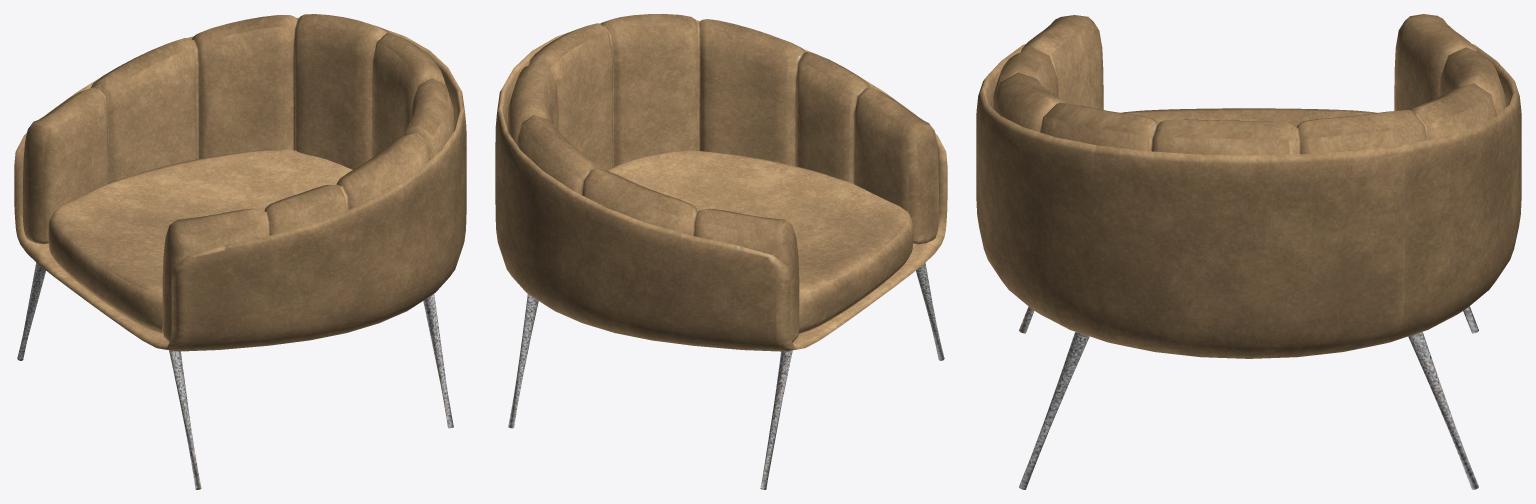
3 views of the same model, side by side, from view 1: azimuth 30°, elevation 25°; view 2: azimuth 150°, elevation 25°; view 3: azimuth 270°, elevation 25° (orthographic). The views are drawn at different scales.
Visible parts, largest first — view 1: Cube.001, Cube.003, Cube.002, Cylinder; view 2: Cube.001, Cube.003, Cube.002, Cylinder; view 3: Cube.003, Cube.001, Cylinder, Cube.002.
Boxes of the visible parts, box(x1,y1,x2,y2) form: Cube.001: box(22, 14, 454, 342); Cube.003: box(14, 17, 466, 351); Cube.002: box(48, 150, 352, 333); Cylinder: box(17, 262, 453, 489); Cube.001: box(507, 14, 938, 342); Cube.003: box(495, 20, 947, 351); Cube.002: box(607, 150, 913, 333); Cylinder: box(508, 263, 944, 489); Cube.003: box(976, 44, 1521, 358); Cube.001: box(993, 14, 1505, 155); Cylinder: box(1019, 306, 1478, 489); Cube.002: box(1121, 108, 1376, 127).
Size of the model in its own units: 4.15 by 3.58 by 4.48.
Materials: 1 (1 with a texture image).
